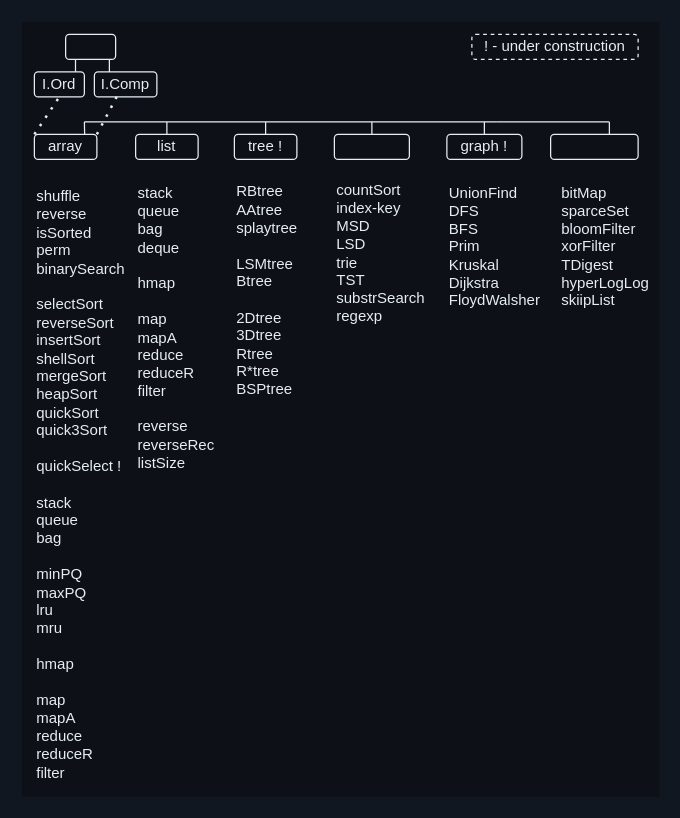
This 680x818 diagram has some shape labels left out. The shapes that lost their labels are listed below. From the top down, each one's centre as x and y in pixels, then its label:
the point at 90,46: types
the point at 371,146: radix !
the point at 593,146: highLoad !
